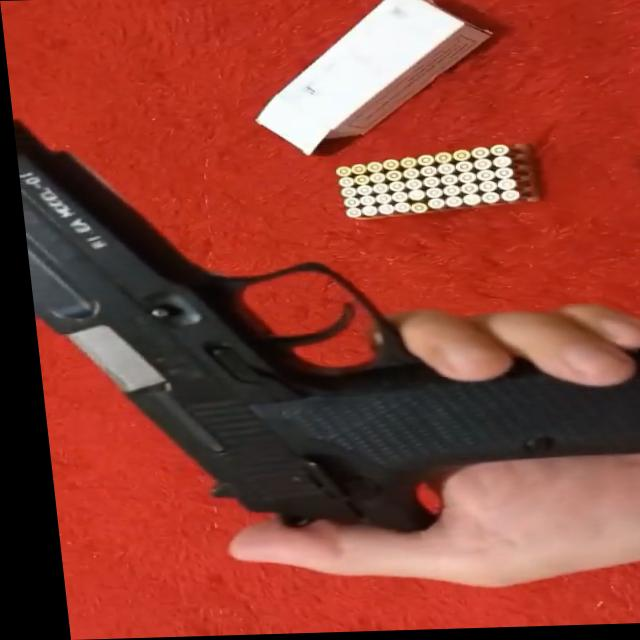handgun: (10, 99, 640, 570)
